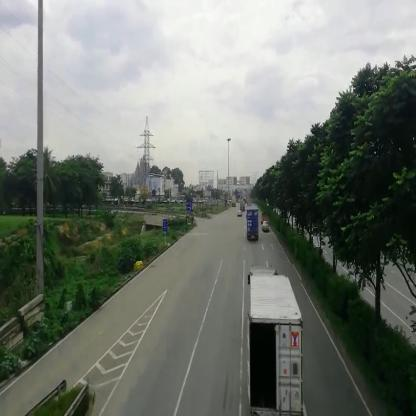car: (264, 221, 270, 235)
container: (251, 265, 302, 416), (247, 209, 259, 241)
truck: (264, 214, 268, 221)
